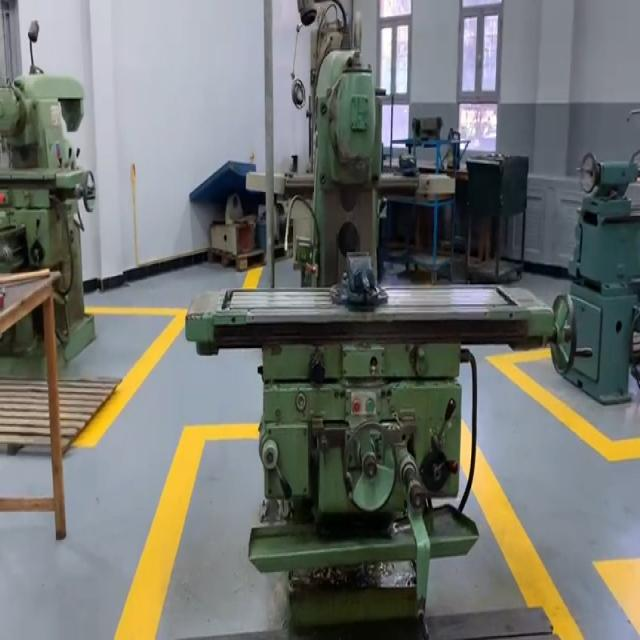fraiseuse: (186, 0, 592, 631)
